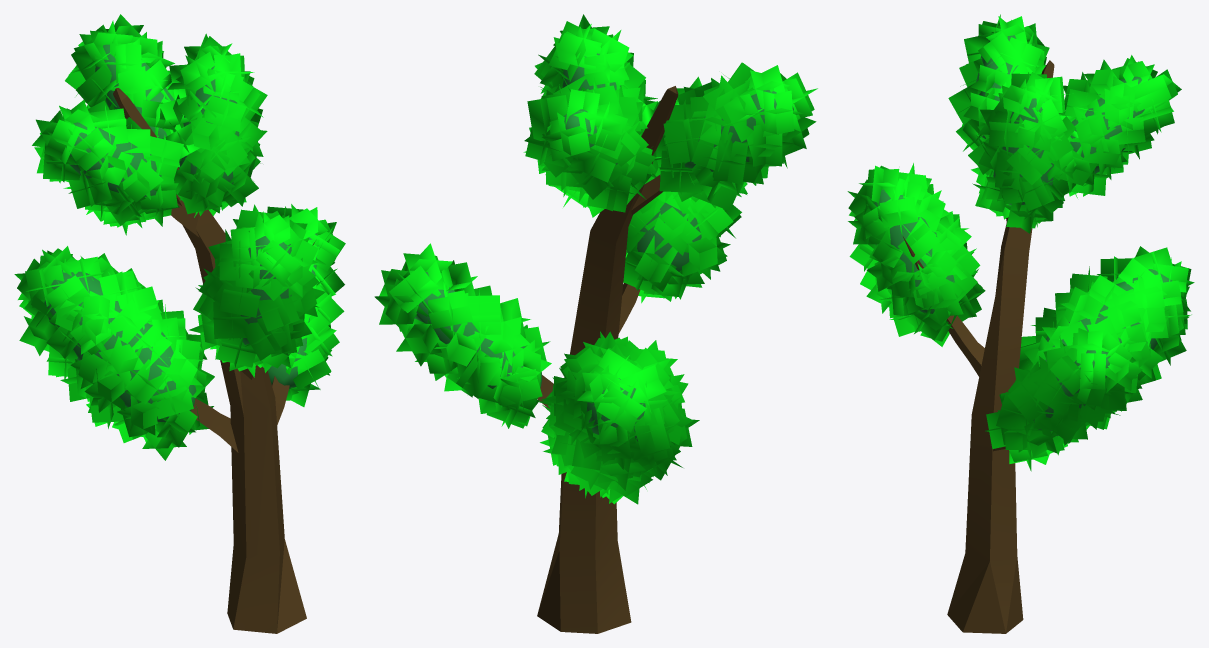
The model's file is Tree2.FBX.
The picture shows the model from 3 angles, left to right: view 1: azimuth 30°, elevation 25°; view 2: azimuth 150°, elevation 25°; view 3: azimuth 270°, elevation 25°; orthographic projection. The views are drawn at different scales.
Parts seen in each view (by area): view 1: Tree2; view 2: Tree2; view 3: Tree2.
Part boxes in pixels (bbox=[...]): Tree2: bbox=[14, 14, 345, 633]; Tree2: bbox=[374, 14, 817, 633]; Tree2: bbox=[847, 14, 1194, 633].
Bounding box in the file's own units: 422 × 662 × 391.
